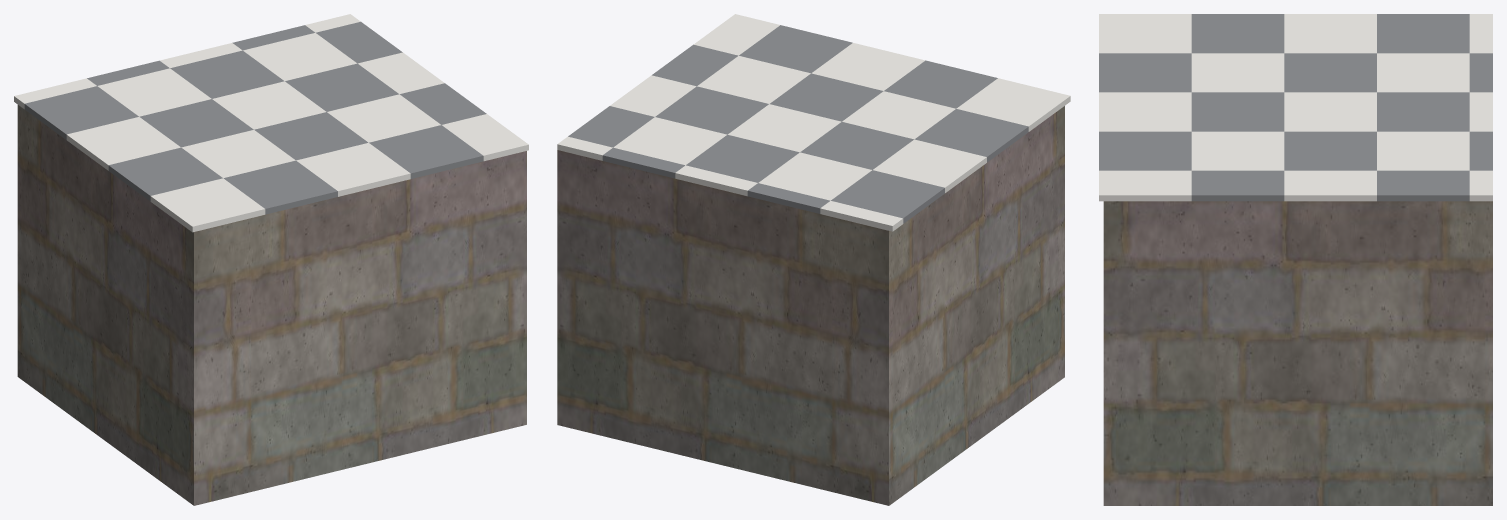
The model's file is floor_hall_g_e0_15_30_0.glb.
3 views of the same model, side by side, from view 1: azimuth 30°, elevation 25°; view 2: azimuth 150°, elevation 25°; view 3: azimuth 270°, elevation 25° (orthographic). The views are drawn at different scales.
Parts seen in each view (by area): view 1: floor_hall_g_e0_15_30_0_plinth, floor_hall_g_e0_15_30_0_marble, floor_hall_g_e0_15_30_0_slate; view 2: floor_hall_g_e0_15_30_0_plinth, floor_hall_g_e0_15_30_0_marble, floor_hall_g_e0_15_30_0_slate; view 3: floor_hall_g_e0_15_30_0_plinth, floor_hall_g_e0_15_30_0_marble, floor_hall_g_e0_15_30_0_slate.
Boxes of the visible parts, x1=… form: floor_hall_g_e0_15_30_0_plinth: x1=17, y1=105, x2=526, y2=505; floor_hall_g_e0_15_30_0_marble: x1=14, y1=14, x2=528, y2=232; floor_hall_g_e0_15_30_0_slate: x1=24, y1=21, x2=486, y2=214; floor_hall_g_e0_15_30_0_plinth: x1=557, y1=106, x2=1064, y2=505; floor_hall_g_e0_15_30_0_marble: x1=557, y1=14, x2=1070, y2=231; floor_hall_g_e0_15_30_0_slate: x1=568, y1=25, x2=1028, y2=223; floor_hall_g_e0_15_30_0_plinth: x1=1103, y1=201, x2=1492, y2=505; floor_hall_g_e0_15_30_0_marble: x1=1099, y1=14, x2=1492, y2=201; floor_hall_g_e0_15_30_0_slate: x1=1099, y1=14, x2=1492, y2=201.
Bounding box in the file's own units: 1.85 × 1.48 × 1.7.
Materials: 3 (1 with a texture image).
